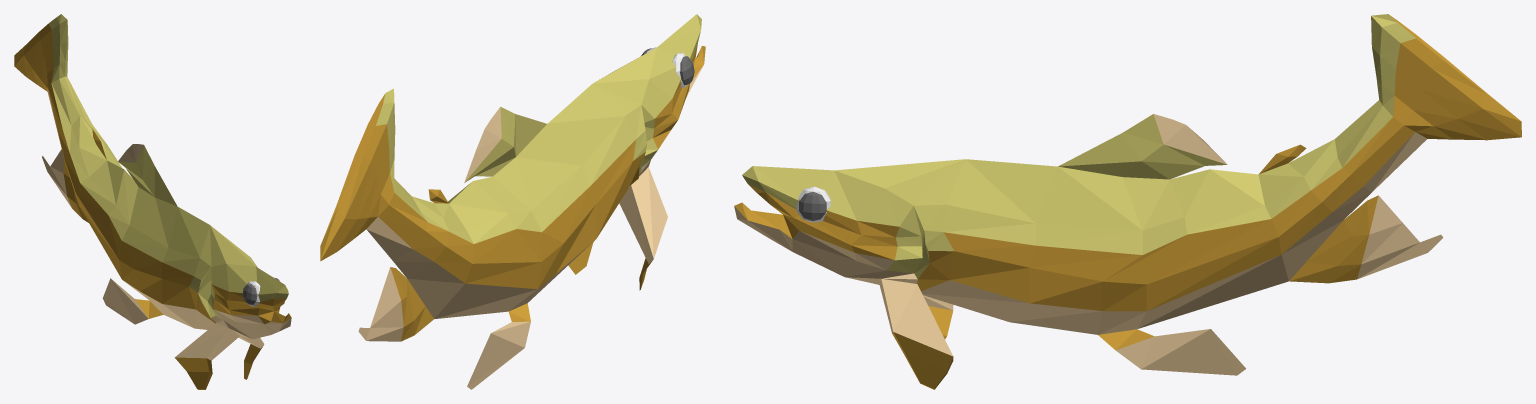
File: fish_trout.glb
3 renders of one model, left to right at view 1: azimuth 30°, elevation 25°; view 2: azimuth 150°, elevation 25°; view 3: azimuth 270°, elevation 25°, orthographic. The views are drawn at different scales.
Parts seen in each view (by area): view 1: Polygon, e; view 2: Polygon, e; view 3: Polygon.
Boxes of the visible parts, x1,y1,x2,y2 form: Polygon: (14, 14, 291, 389); e: (242, 277, 279, 304); Polygon: (320, 14, 705, 389); e: (641, 48, 694, 84); Polygon: (734, 14, 1521, 389).
Bounding box in the file's own units: 0.0498 × 0.1513 × 0.3.
